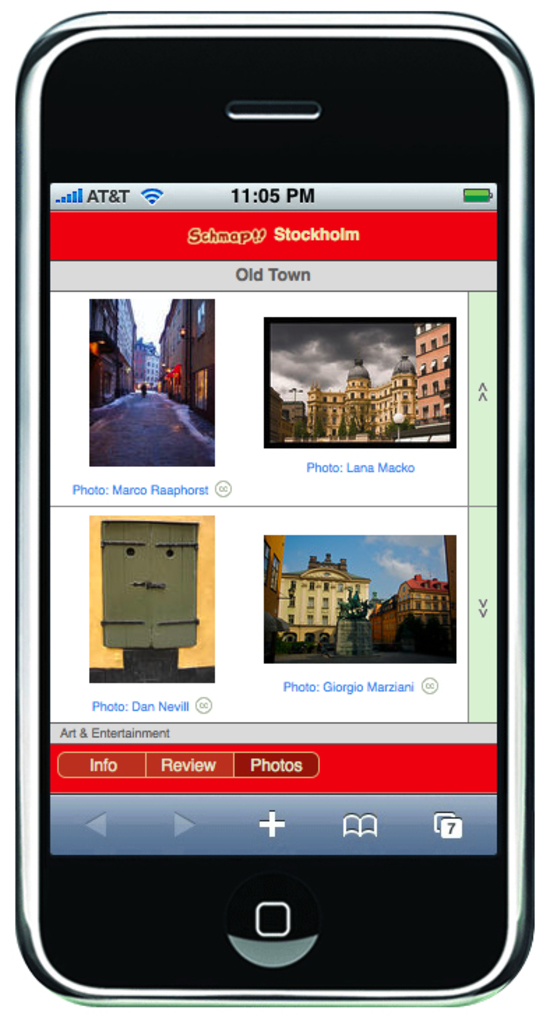mobile phone: (0, 74, 549, 1023)
